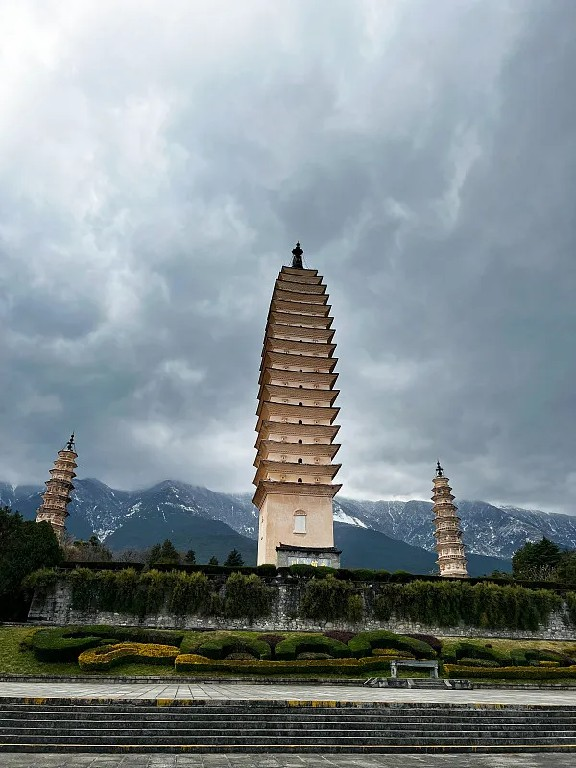ThreePagoda: (251, 239, 343, 568)
